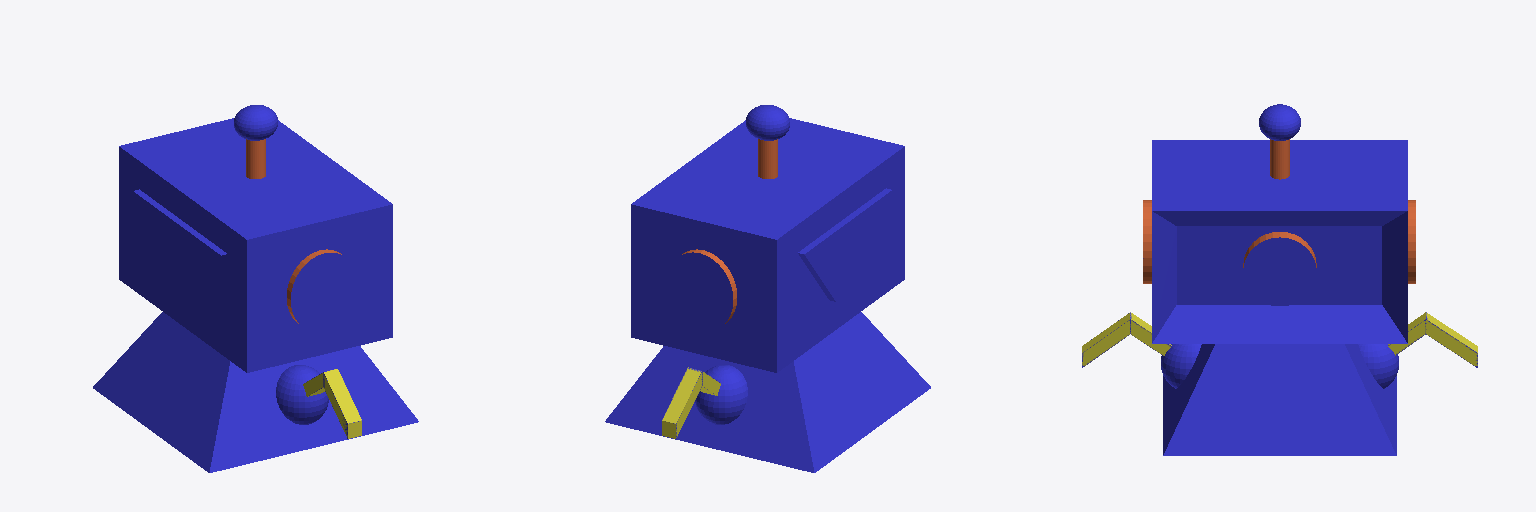
The picture shows the model from 3 angles: view 1: azimuth 30°, elevation 25°; view 2: azimuth 150°, elevation 25°; view 3: azimuth 270°, elevation 25°; orthographic projection.
Parts seen in each view (by area): view 1: 円柱; view 2: 円柱; view 3: 円柱.
Part boxes in pixels (left/top/right/bottom): 円柱: left=93, top=105, right=418, bottom=472; 円柱: left=605, top=105, right=930, bottom=472; 円柱: left=1082, top=104, right=1477, bottom=455.
Bounding box in the file's own units: 4.3 × 5.82 × 7.02.
Materials: 1 (1 with a texture image).